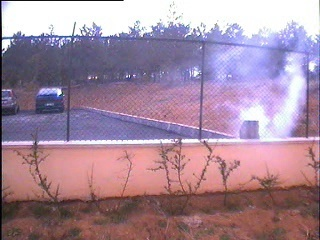smoke: (214, 24, 306, 136)
